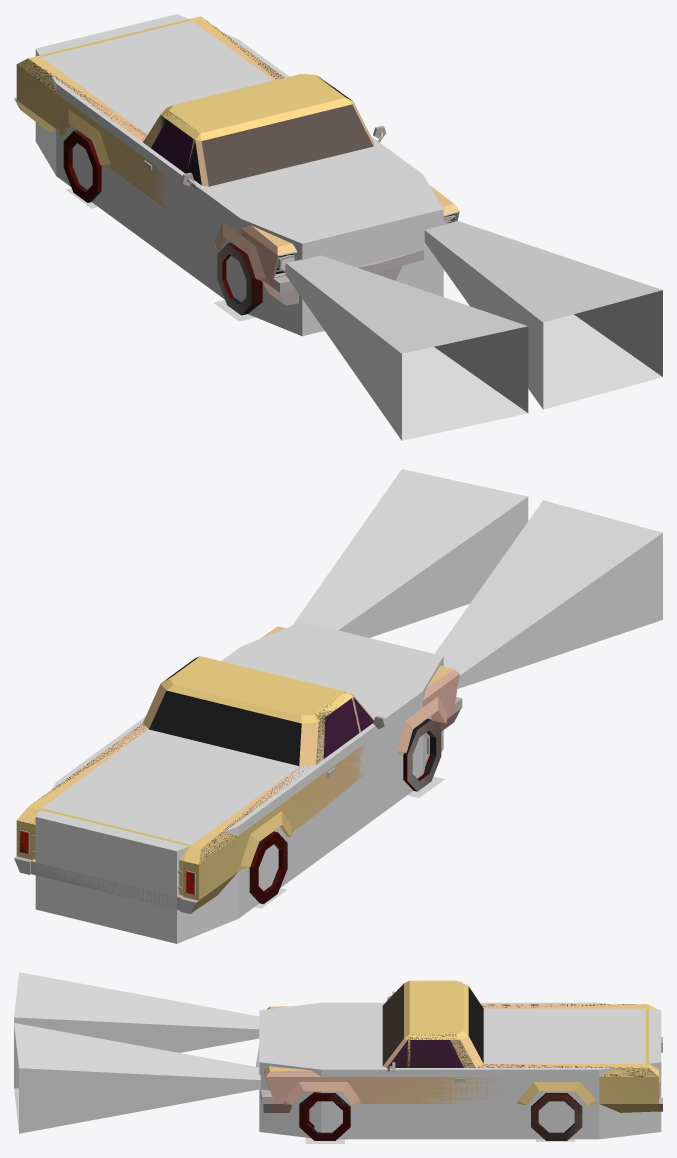
Rendered from Torque.fbx.
3 renders of one model, top to bottom at view 1: azimuth 30°, elevation 25°; view 2: azimuth 150°, elevation 25°; view 3: azimuth 270°, elevation 25°, orthographic. The views are drawn at different scales.
Parts seen in each view (by area): view 1: torque_gr, torque_cldr, torque, torque_lckd, torque_frontwheels, torque_dead; view 2: torque_cldr, torque_gr, torque, torque_lckd, torque_frontwheels, torque_dead; view 3: torque_cldr, torque_gr, torque, torque_dead, torque_lckd, torque_rearwheels.
Boxes of the visible parts, left/top/right/bottom form: torque_gr: left=285, top=221, right=662, bottom=440; torque_cldr: left=35, top=14, right=443, bottom=336; torque: left=14, top=16, right=459, bottom=305; torque_lckd: left=63, top=130, right=262, bottom=305; torque_frontwheels: left=217, top=242, right=262, bottom=315; torque_dead: left=18, top=21, right=455, bottom=270; torque_cldr: left=35, top=621, right=443, bottom=943; torque_gr: left=292, top=469, right=662, bottom=688; torque: left=14, top=626, right=462, bottom=913; torque_lckd: left=249, top=745, right=433, bottom=904; torque_frontwheels: left=404, top=718, right=441, bottom=791; torque_dead: left=19, top=657, right=373, bottom=893; torque_cldr: left=259, top=1002, right=661, bottom=1139; torque_gr: left=14, top=972, right=260, bottom=1133; torque: left=256, top=980, right=662, bottom=1112; torque_dead: left=387, top=1004, right=657, bottom=1076; torque_lckd: left=299, top=1092, right=581, bottom=1140; torque_rearwheels: left=531, top=1094, right=582, bottom=1140.
Size of the model in its own units: 5.64 by 2.69 by 16.11.
